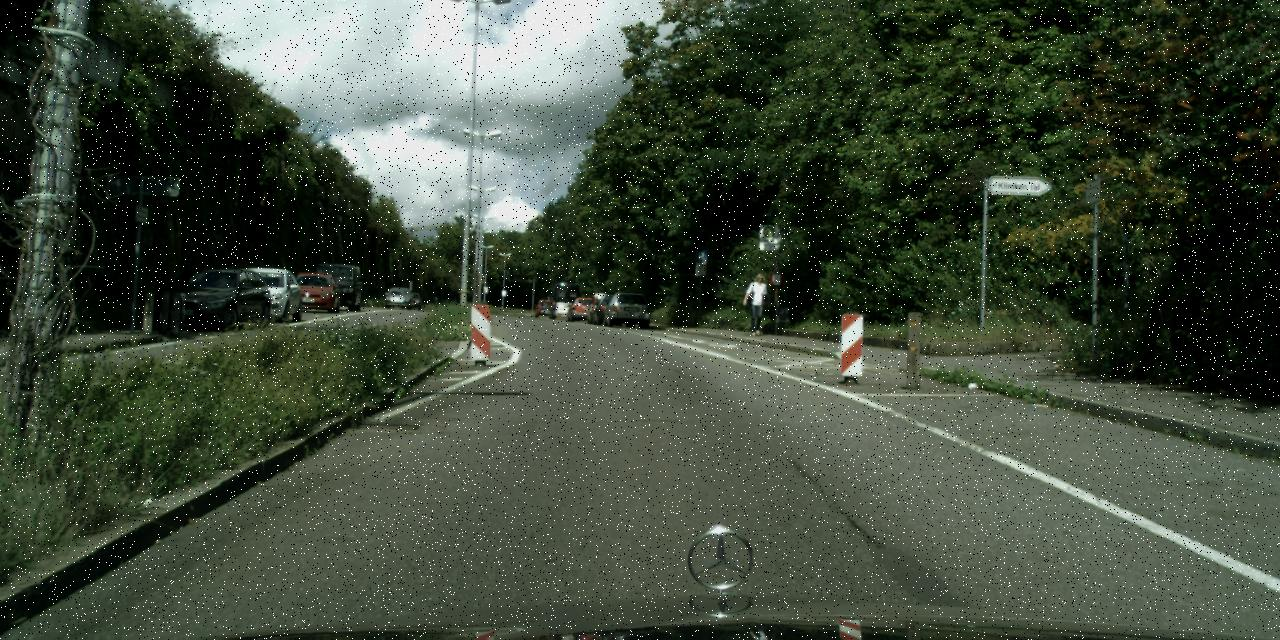ped: (746, 273, 770, 335)
